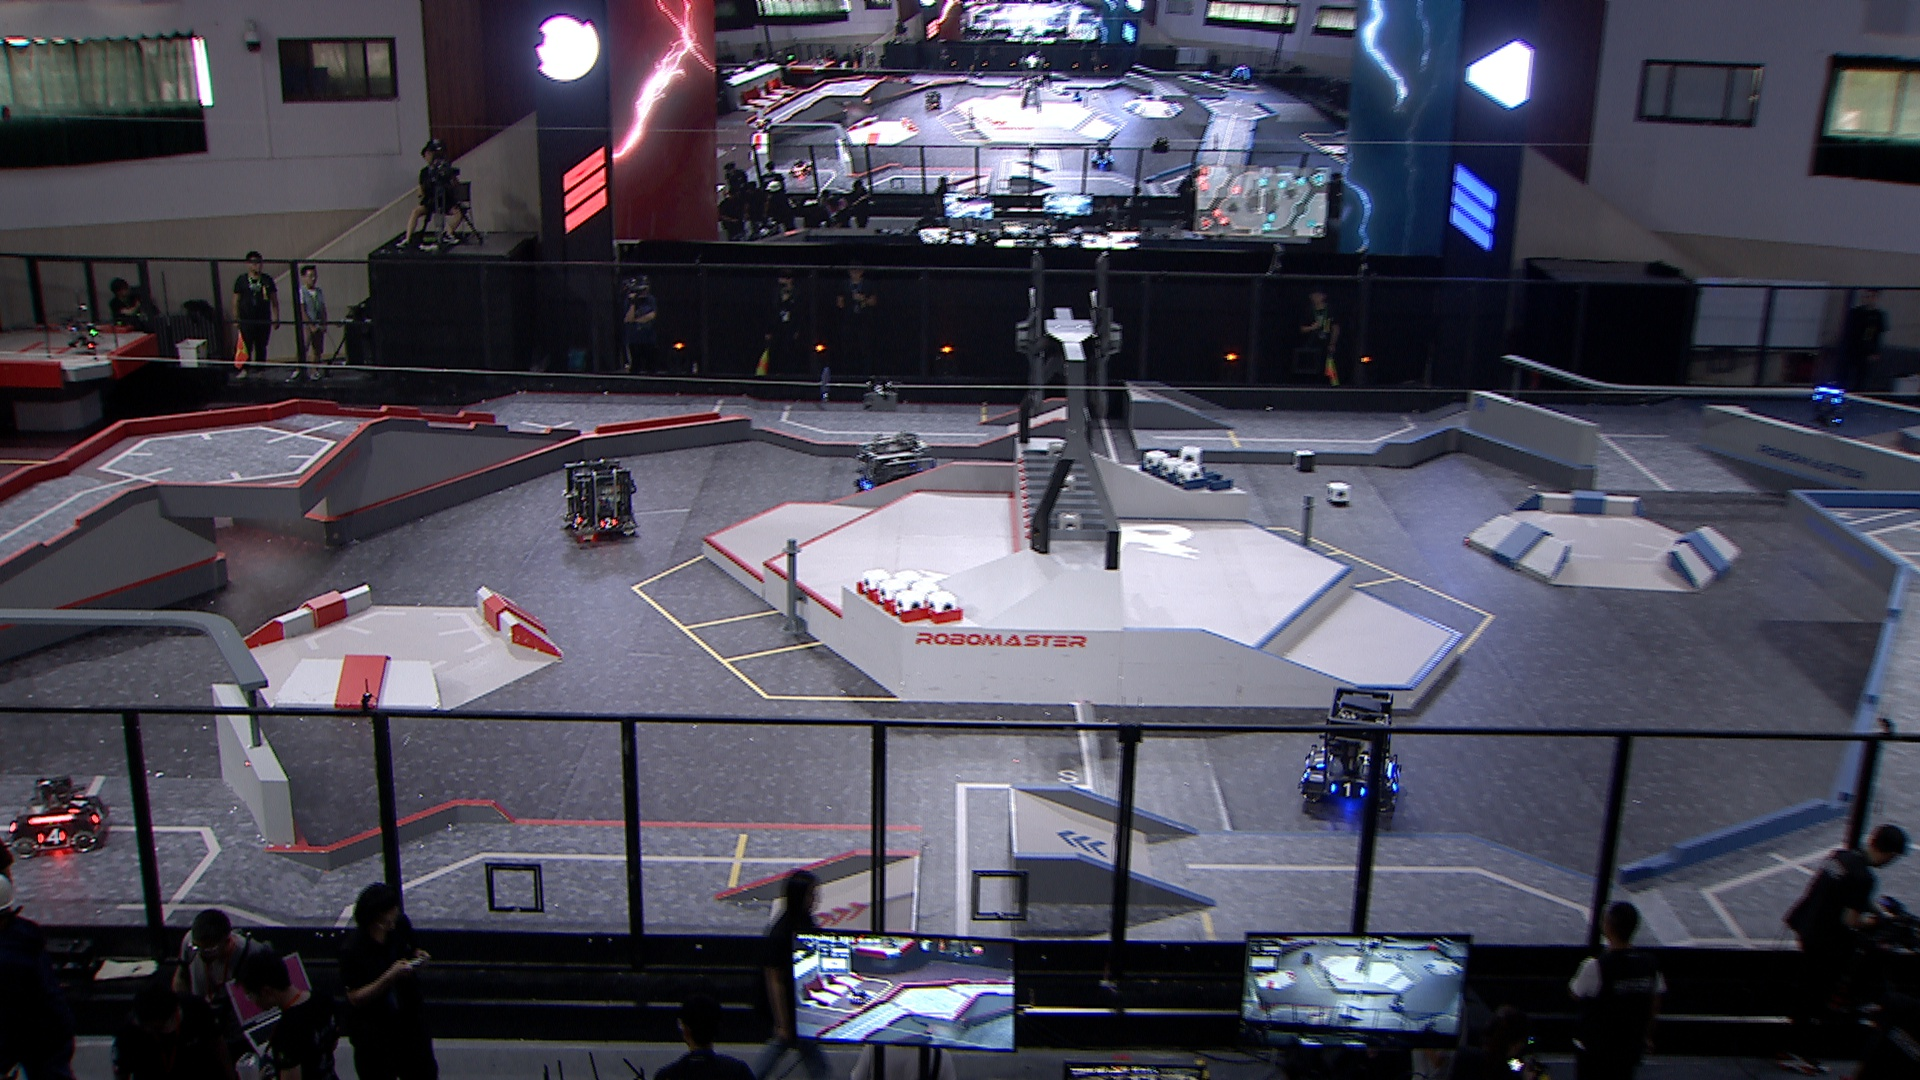armor: (1327, 781, 1367, 799), (36, 827, 69, 847), (67, 790, 90, 816), (88, 806, 109, 827), (1811, 392, 1841, 405), (596, 517, 621, 531), (1389, 767, 1400, 794), (1309, 752, 1325, 771), (570, 510, 584, 526), (858, 479, 876, 491)
car: (1298, 687, 1400, 818), (3, 773, 112, 860), (556, 455, 638, 546), (852, 433, 932, 506)
ignore: (1091, 136, 1116, 167), (1225, 63, 1251, 87), (789, 157, 812, 179), (923, 90, 942, 112)
watcher: (1808, 381, 1846, 429)
